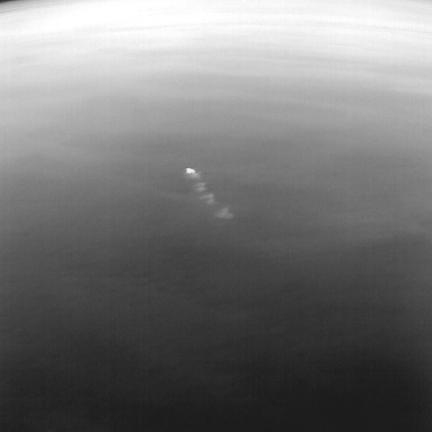flukeprints: (215, 207, 232, 218), (200, 193, 214, 203), (194, 182, 206, 192), (186, 168, 199, 176)
